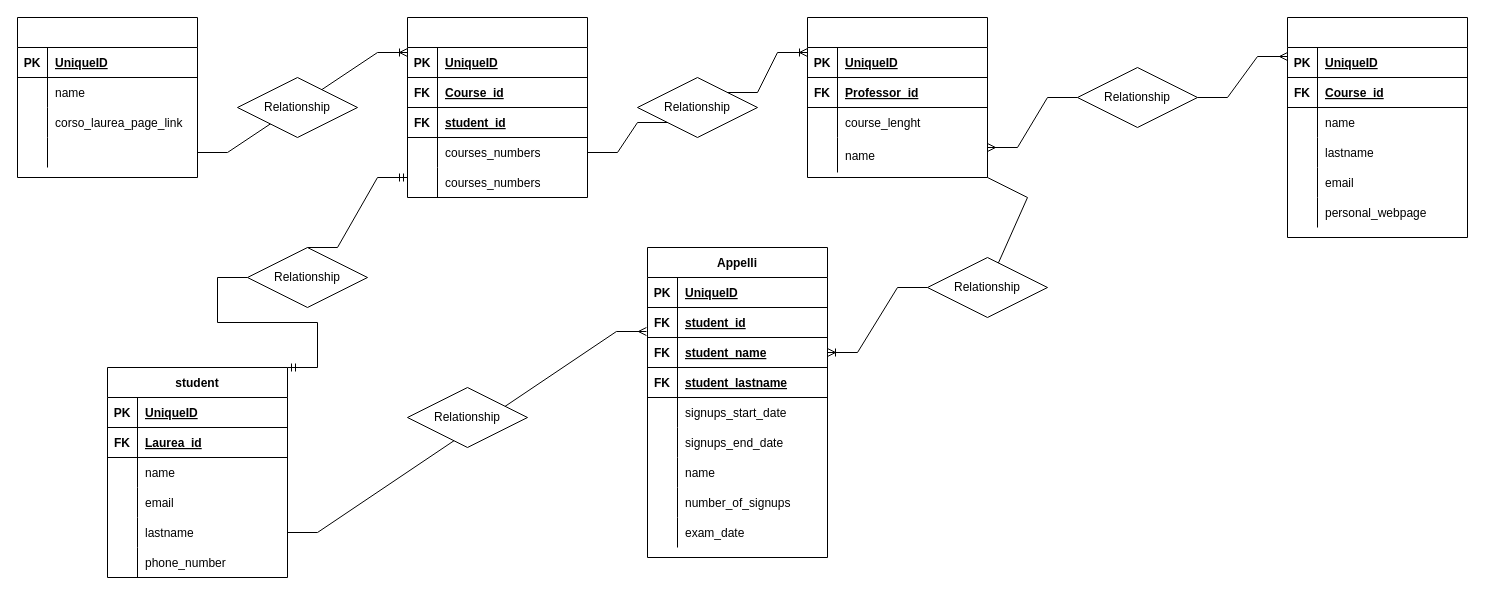
This 1485x595 diagram has some shape labels left out. The box of each missing label's shape, as (x1, y1, x2, y2) in pixels:
courses: (806, 16, 988, 178)
Departments: (16, 16, 198, 178)
Lauree: (406, 16, 588, 198)
Professors: (1286, 16, 1468, 238)
